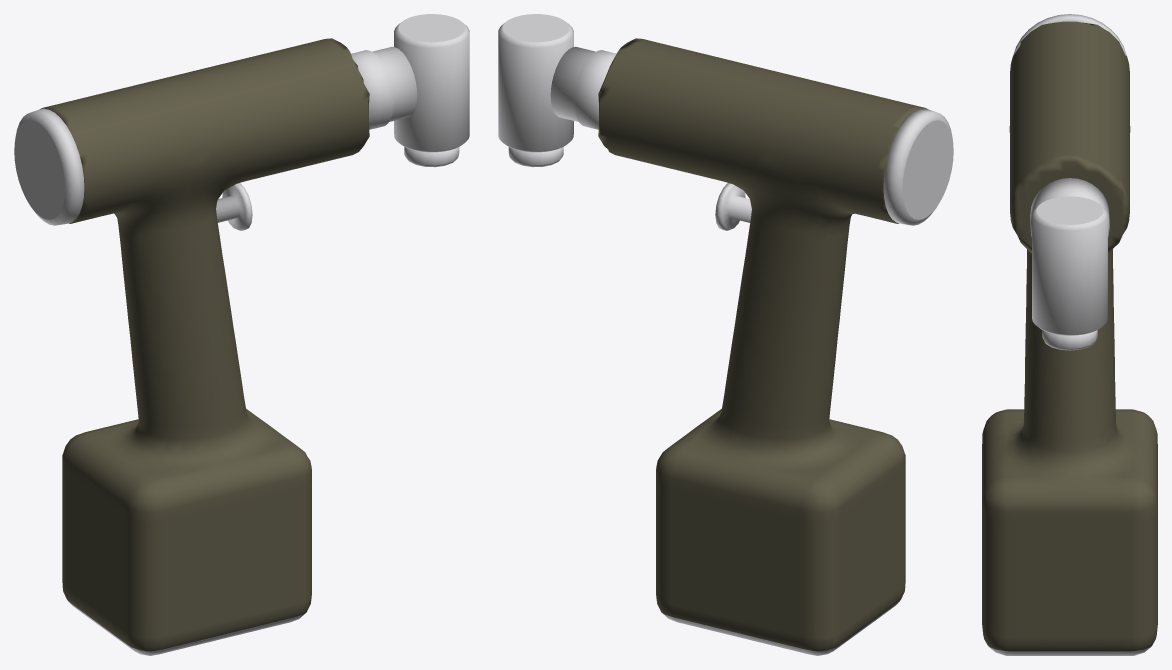
Rendered from saw-oscillating.lod1.glb.
3 views of the same model, side by side, from view 1: azimuth 30°, elevation 25°; view 2: azimuth 150°, elevation 25°; view 3: azimuth 270°, elevation 25° (orthographic).
Parts seen in each view (by area): view 1: body, saw_head, rear, nose, trigger, blade_hub; view 2: body, saw_head, rear, nose, trigger, blade_hub; view 3: body, saw_head, nose, blade_hub, rear.
Part boxes in pixels (x1,y1,x2,y2): body: [39, 38, 369, 655]; saw_head: [394, 14, 469, 152]; rear: [14, 108, 84, 225]; nose: [351, 46, 417, 129]; trigger: [216, 183, 252, 230]; blade_hub: [404, 147, 459, 167]; body: [598, 38, 928, 655]; saw_head: [498, 14, 573, 152]; rear: [883, 108, 953, 225]; nose: [550, 46, 616, 129]; trigger: [715, 183, 751, 230]; blade_hub: [508, 147, 563, 167]; body: [982, 21, 1157, 655]; saw_head: [1032, 196, 1107, 335]; nose: [1030, 178, 1109, 237]; blade_hub: [1042, 330, 1097, 350]; rear: [1013, 14, 1126, 55].
Bounding box in the file's own units: 0.1684 × 0.2022 × 0.06.
